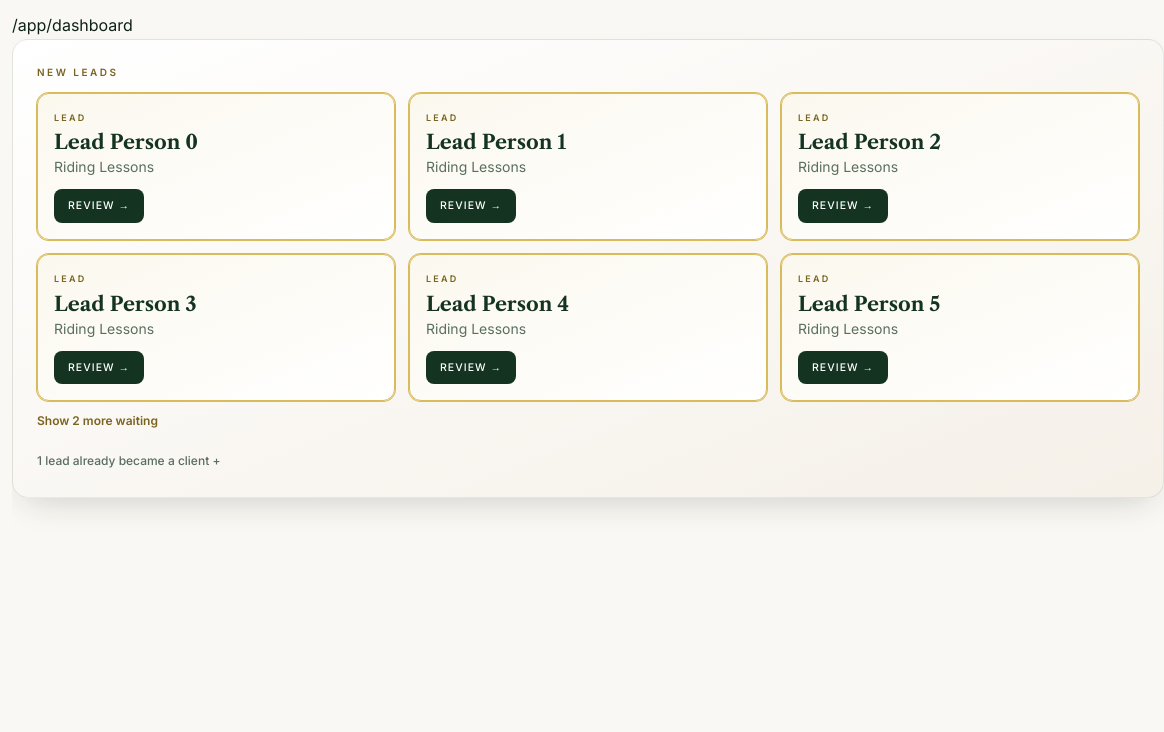
LEADCLEAN — the "more waiting" control › expands in place instead of navigating
The image size is (1164, 732).
Expected: the text with test id "route" reads "/app/dashboard", left=12, top=15, right=133, bottom=35
Click the button "Show 2 more waiting" at point(97, 422), box left=37, top=412, right=158, bottom=432
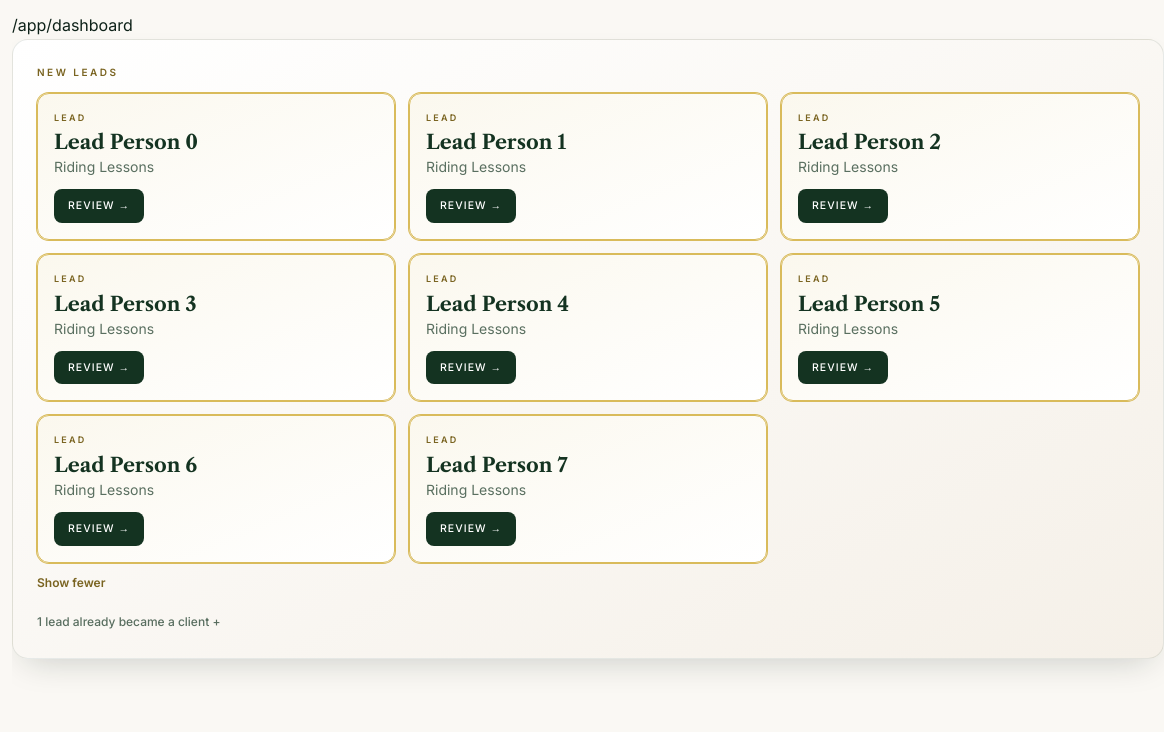
Expected: the text with test id "route" reads "/app/dashboard", left=12, top=15, right=133, bottom=35
Expected: the text "Lead Person 0" is shown 8 times
Expected: the button "Show fewer" is shown, left=37, top=573, right=105, bottom=593
